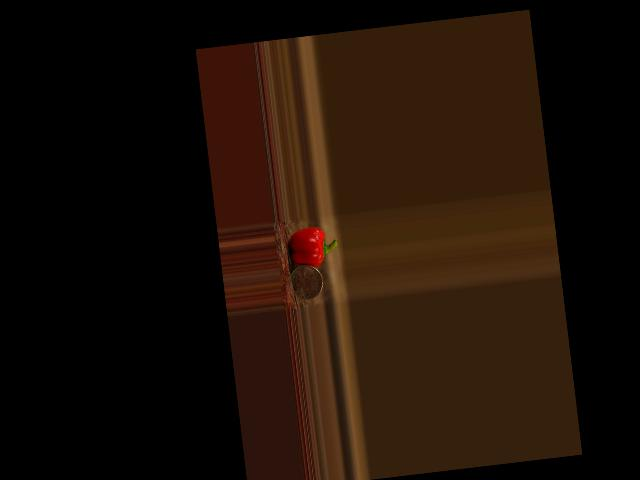bell_pepper: (285, 224, 339, 268)
